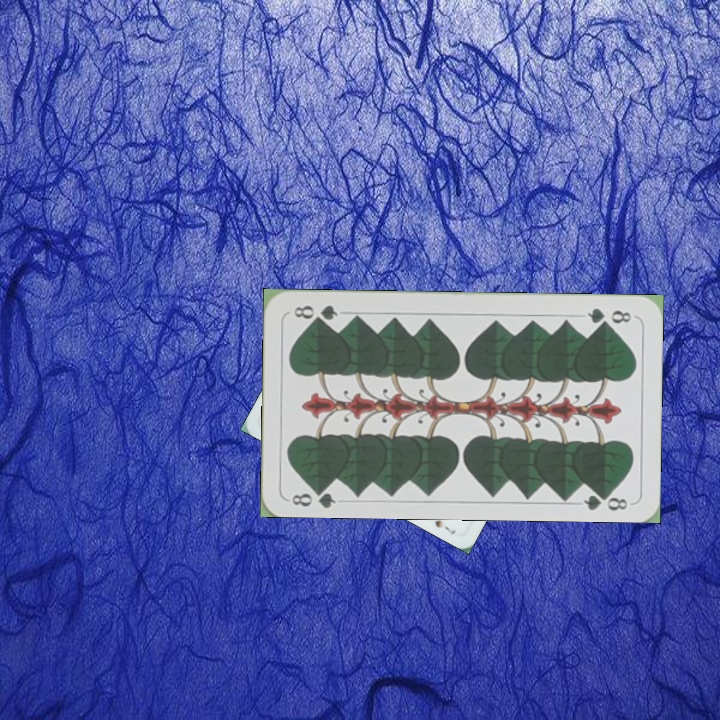G8: (288, 482, 338, 510), (583, 304, 634, 328)
